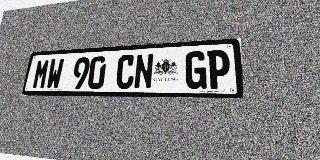0: (87, 56, 107, 89)
9: (71, 57, 91, 89)
C: (115, 54, 136, 89)
G: (185, 51, 207, 89)
M: (32, 59, 51, 89)
N: (133, 53, 154, 89)
P: (207, 49, 230, 89)
W: (45, 58, 65, 89)
